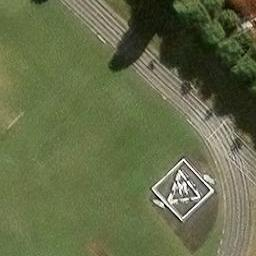heliponto: (153, 159, 213, 221)
